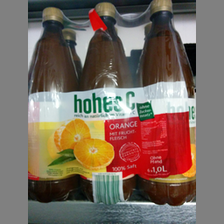juice: (137, 1, 196, 206), (80, 3, 138, 200), (29, 7, 80, 200)
